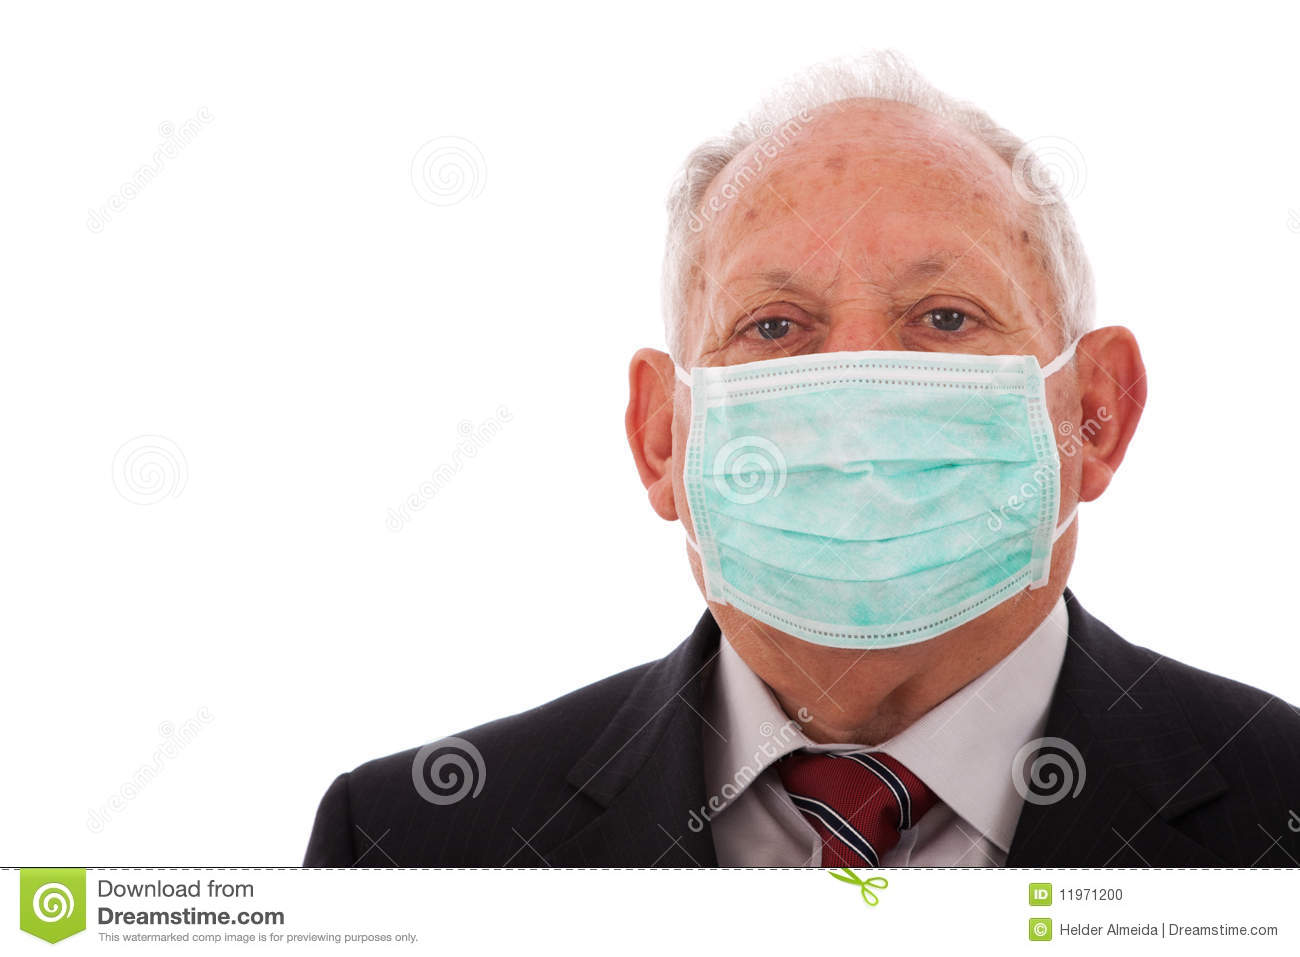mask: (684, 355, 1062, 639)
